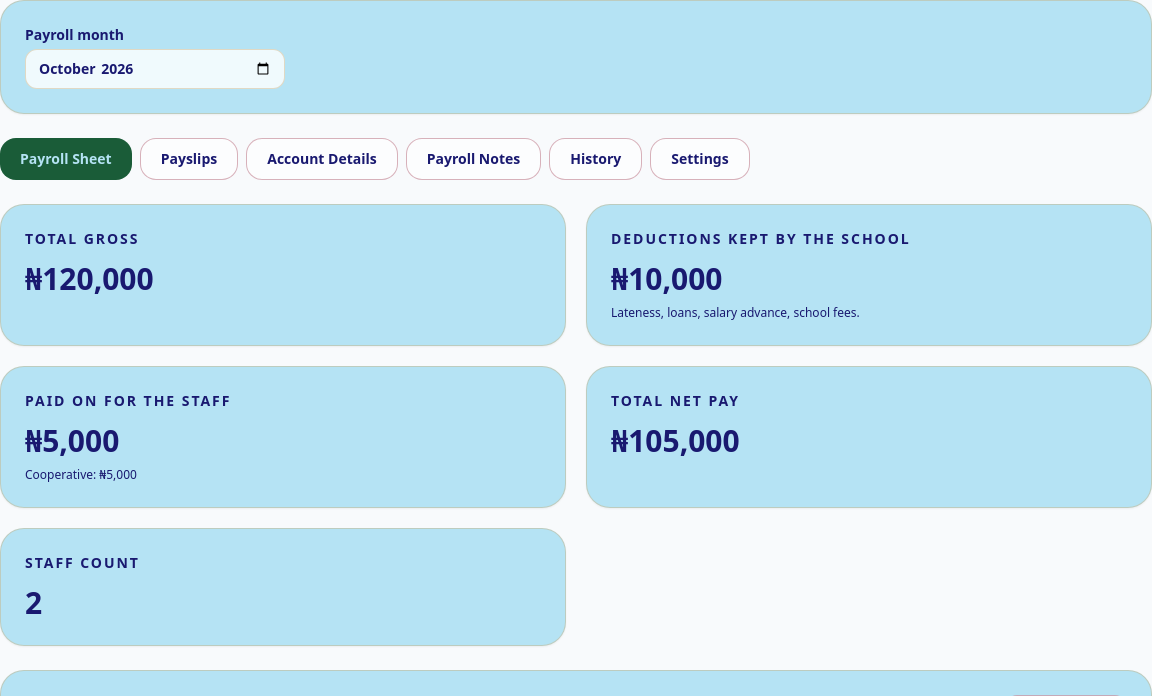
Test: the payroll sheet is readable: green income headings, red deductions, empty amount boxes, what is kept and paid on
Expected: the list item "Cooperative: ₦5,000" is shown, top-left (25, 466), bottom-right (137, 483)
Step 1. Click the button "Settings" → (700, 159), box top-left (650, 138), bottom-right (750, 180)
(page scrolled)
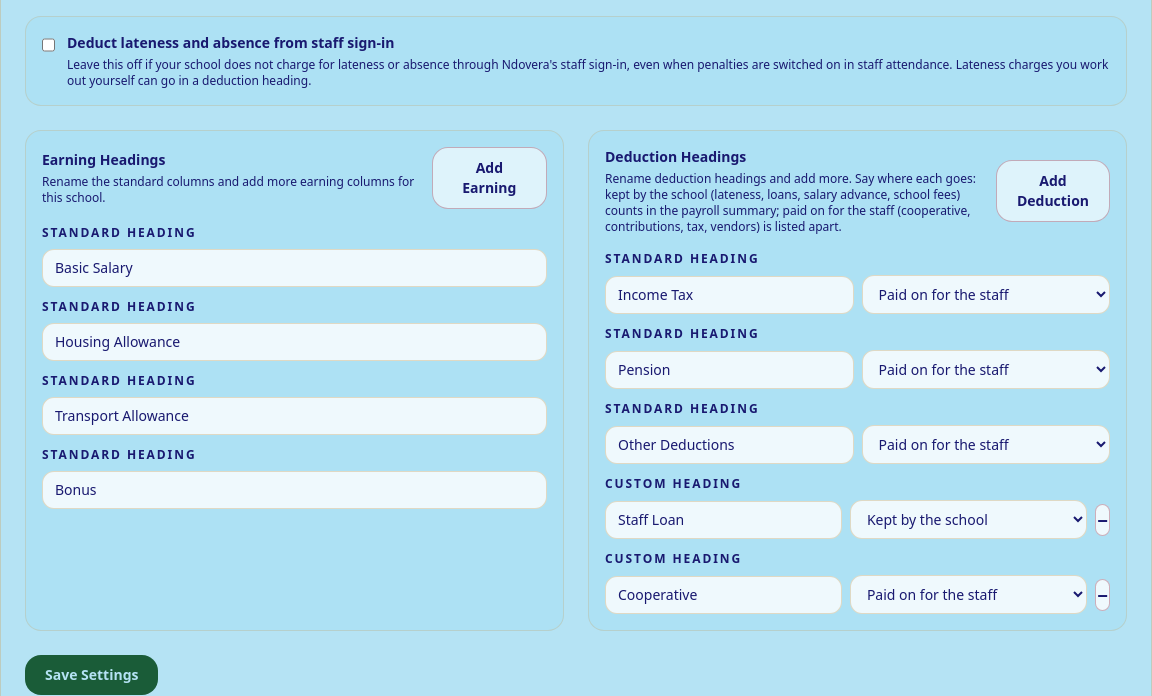
Now the dropdown named "Staff Loan: where it goes" shows "Kept by the school", box top-left (850, 500), bottom-right (1087, 539)
